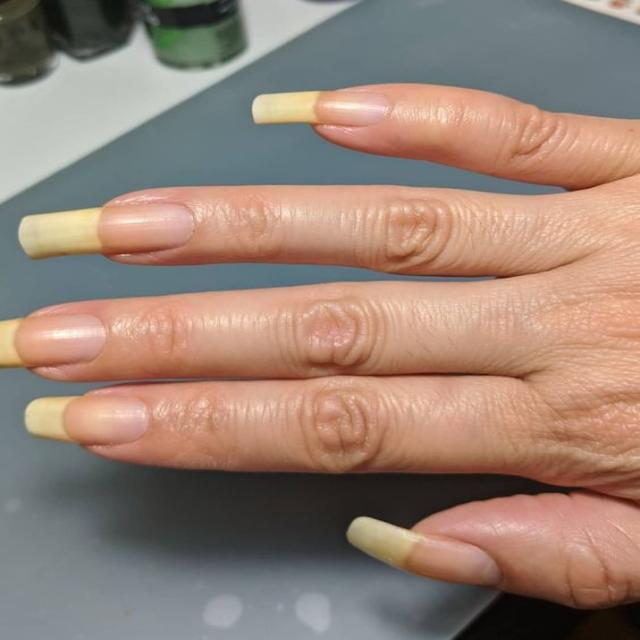Fingernail: (347, 518, 499, 592), (16, 205, 198, 260), (24, 397, 154, 446), (250, 92, 393, 133)
